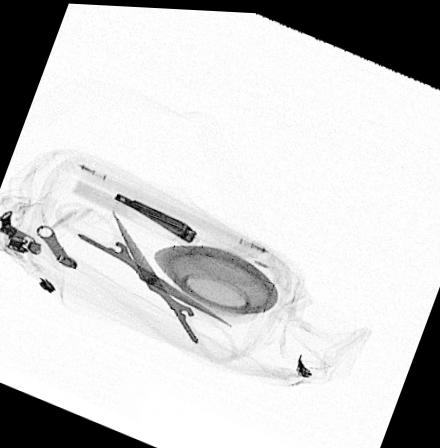Scissors: (47, 196, 240, 364)
